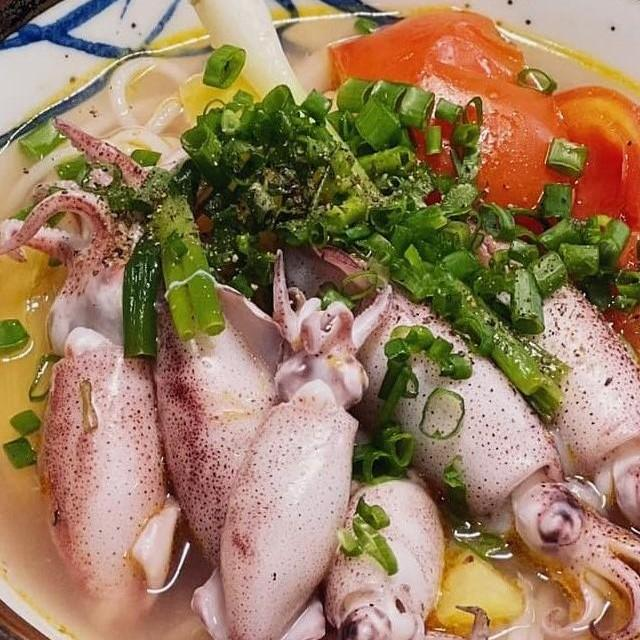bun: (0, 42, 223, 225), (464, 557, 573, 640)
muc: (239, 223, 640, 640), (40, 104, 370, 602), (0, 106, 198, 640), (409, 201, 640, 632), (183, 237, 397, 640), (280, 411, 497, 640)
